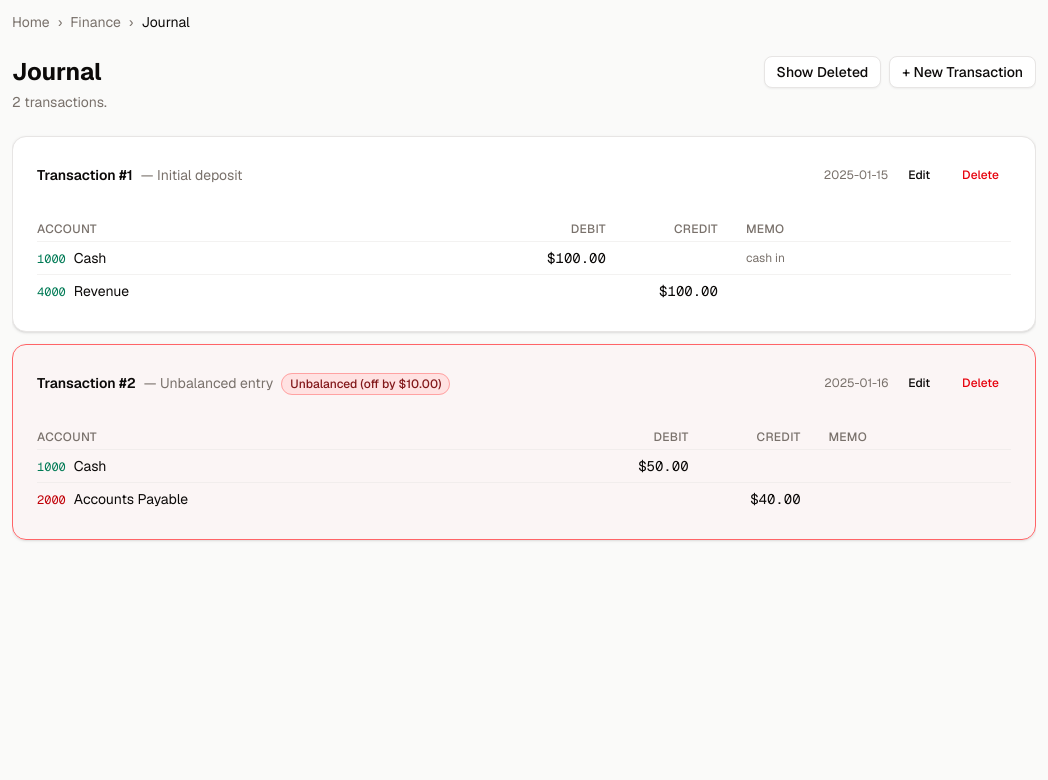
Scenario: JournalPage › enters edit mode and displays edit UI
Expected: the link "Transaction #1" is shown, [37,166,133,184]
Step 1. Click the button "Edit" next to "2025-01-15" → [919, 175], box [896,161,942,189]
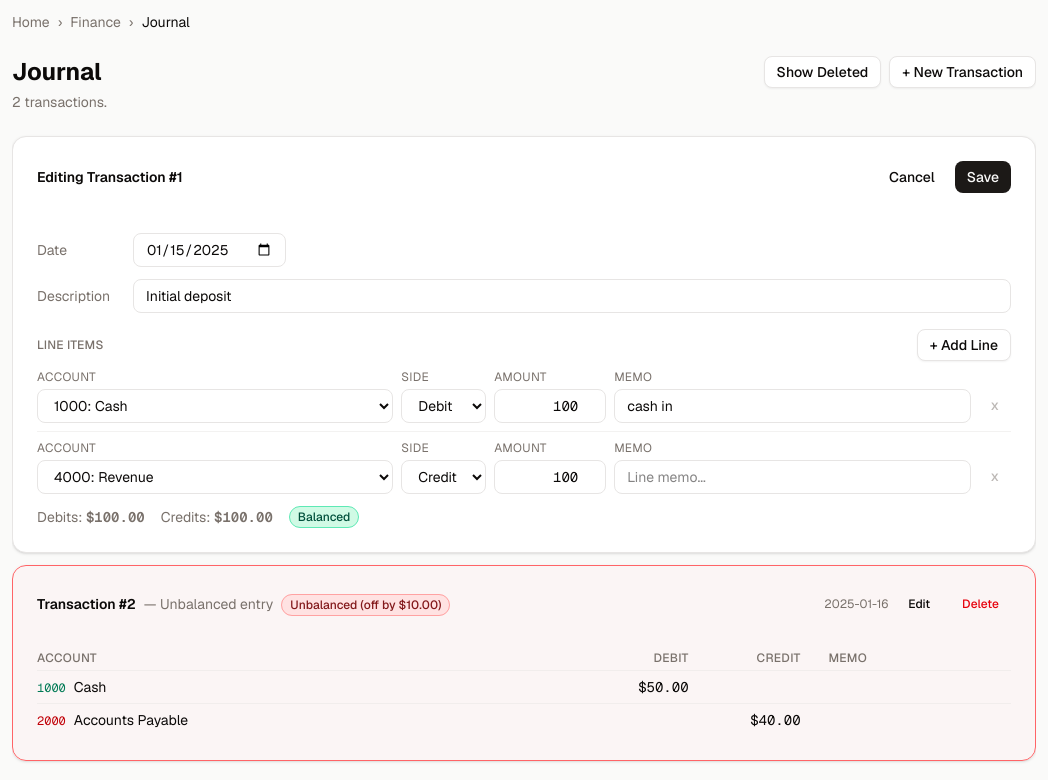
Expected: the text "Editing Transaction #1" is shown, [37,167,183,187]
Expected: the button "Cancel" is shown, [877,161,947,193]
Expected: the button "Save" is shown, [955,161,1011,193]
